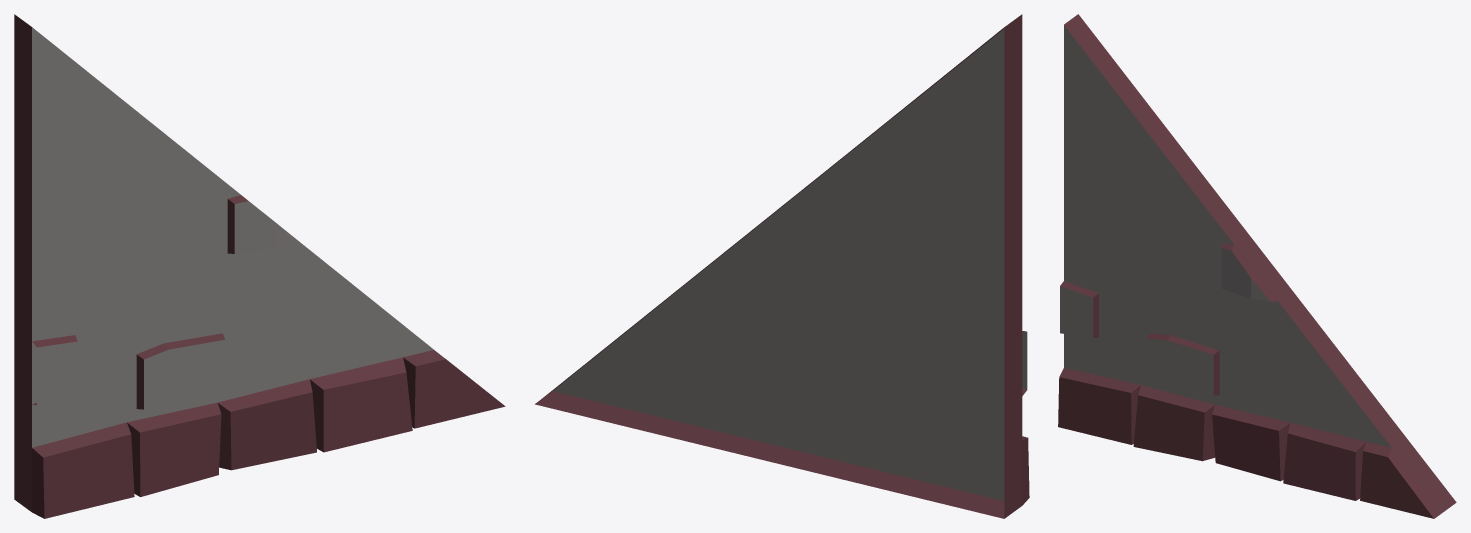
File: wall-stone-end-r-3x3m-b.fbx
The picture shows the model from 3 angles, left to right: view 1: azimuth 30°, elevation 25°; view 2: azimuth 150°, elevation 25°; view 3: azimuth 330°, elevation 25°; orthographic projection. The views are drawn at different scales.
Visible parts, largest first — view 1: wall-stone-end-r-3x3m-b; view 2: wall-stone-end-r-3x3m-b; view 3: wall-stone-end-r-3x3m-b.
Part boxes in pixels (box(x1,y1,x2,y2)): wall-stone-end-r-3x3m-b: box(14, 14, 505, 518); wall-stone-end-r-3x3m-b: box(535, 14, 1029, 518); wall-stone-end-r-3x3m-b: box(1058, 14, 1456, 518).
Bounding box in the file's own units: 3 × 3 × 0.3284.
